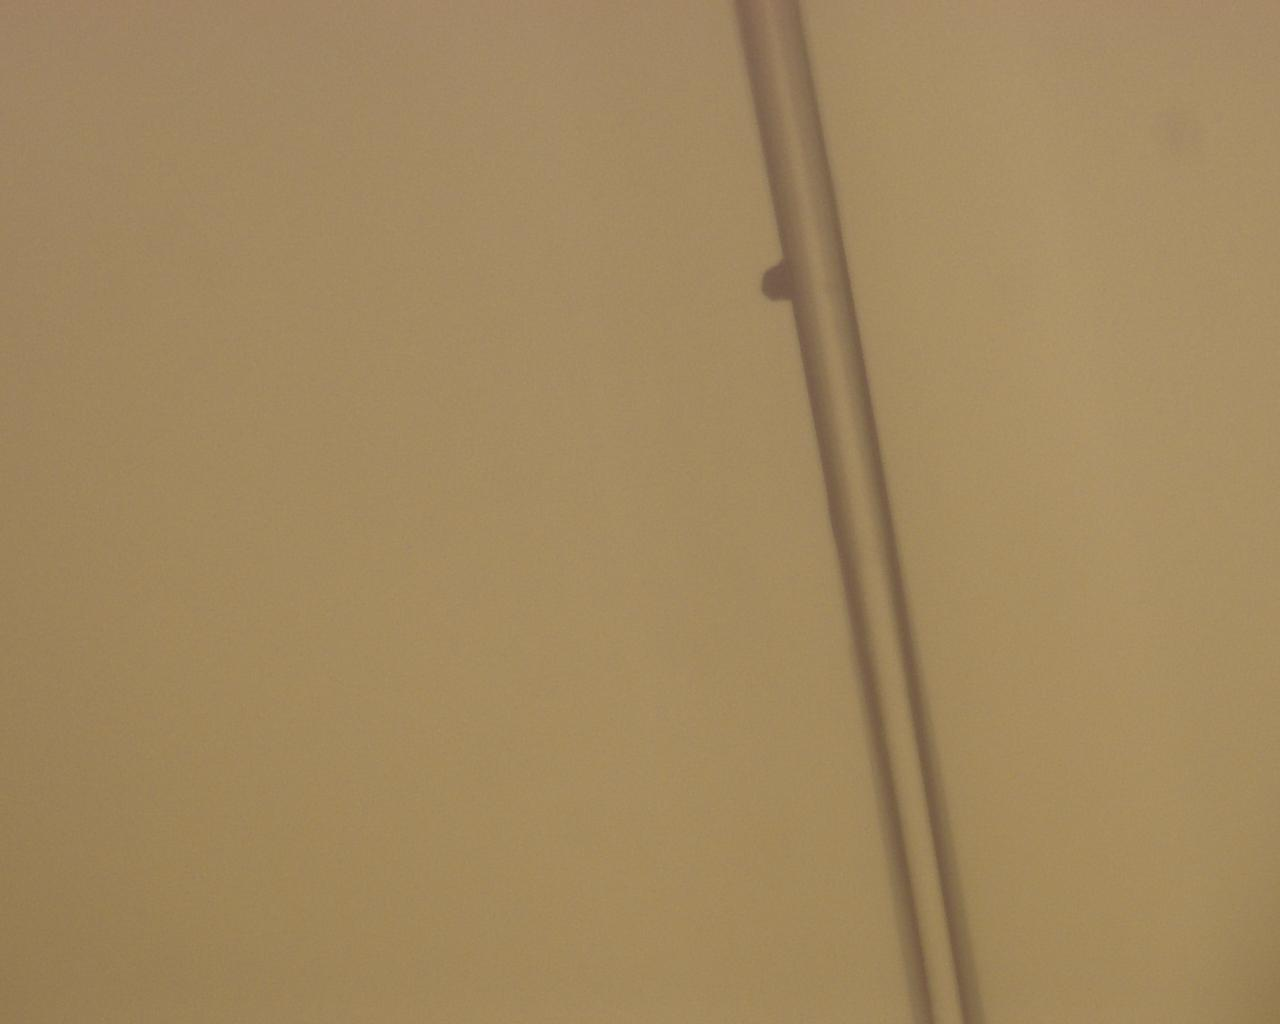fiber: (0, 611, 499, 774), (499, 542, 1280, 628), (499, 301, 1083, 378)
